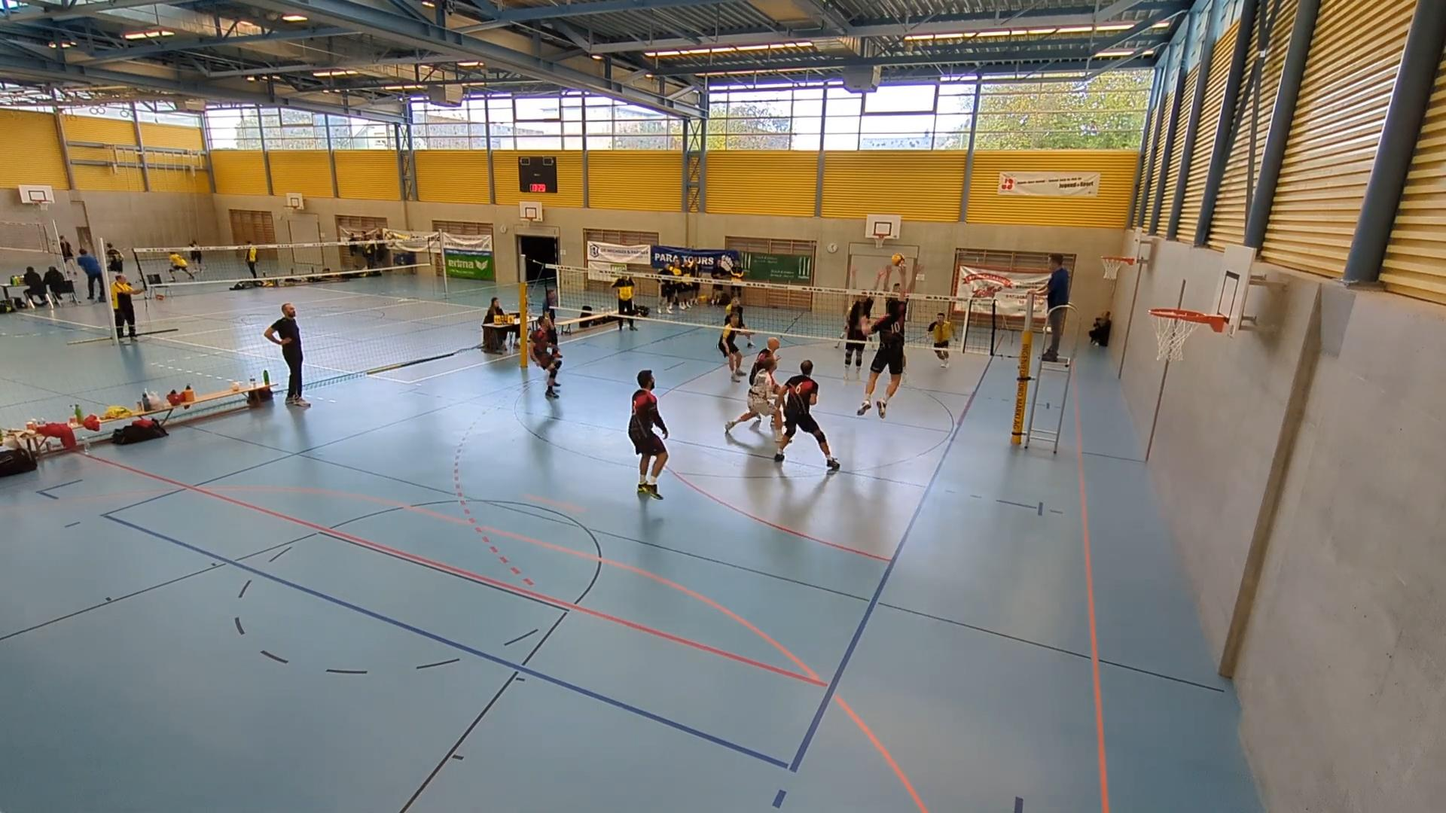Attack: (859, 265, 908, 424)
Block: (847, 253, 886, 372), (894, 251, 921, 316)
Player: (774, 360, 840, 472), (628, 370, 667, 499), (725, 356, 781, 442), (529, 313, 562, 398), (718, 313, 742, 381), (749, 337, 779, 384), (928, 312, 953, 367), (725, 297, 753, 346)
ball: (888, 255, 906, 266)
